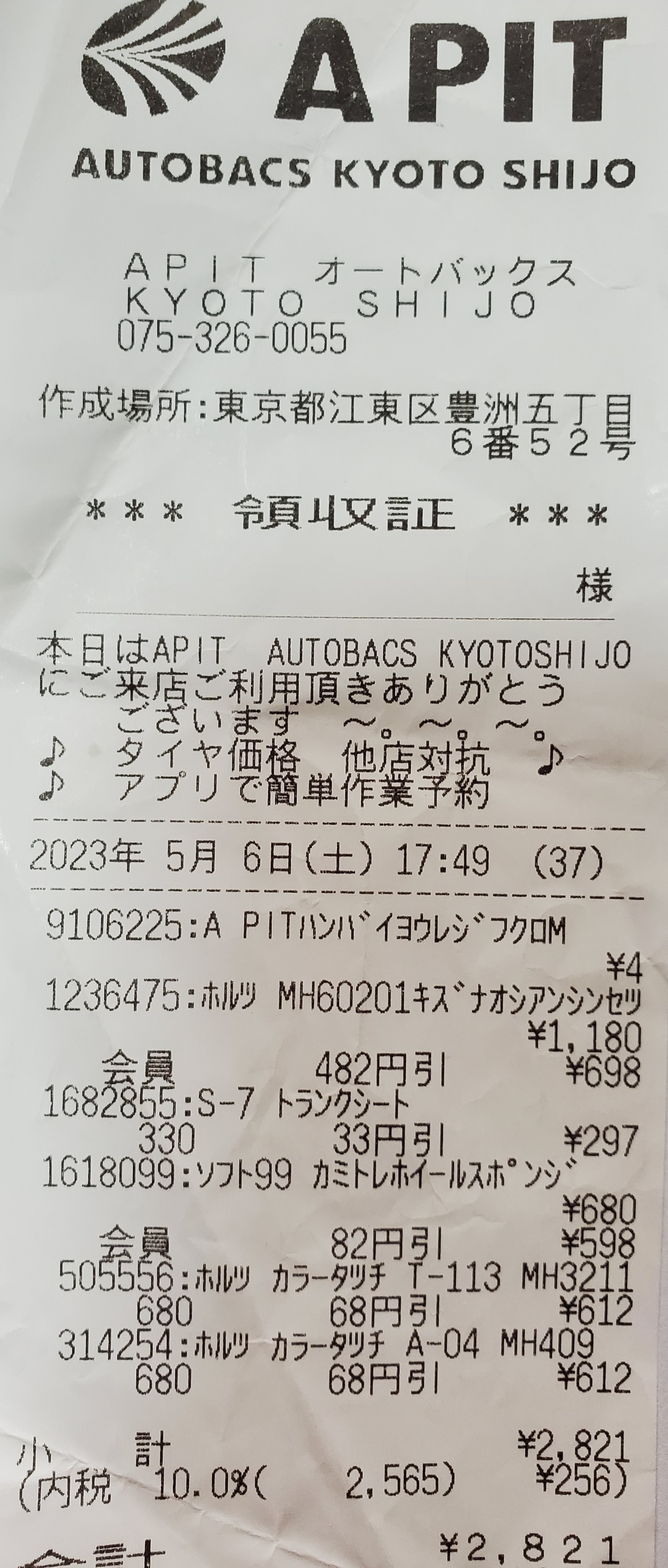Date: (23, 828, 305, 879), (105, 316, 356, 359)
Shopname: (259, 3, 652, 137)
Totalpay: (29, 1513, 640, 1562)
